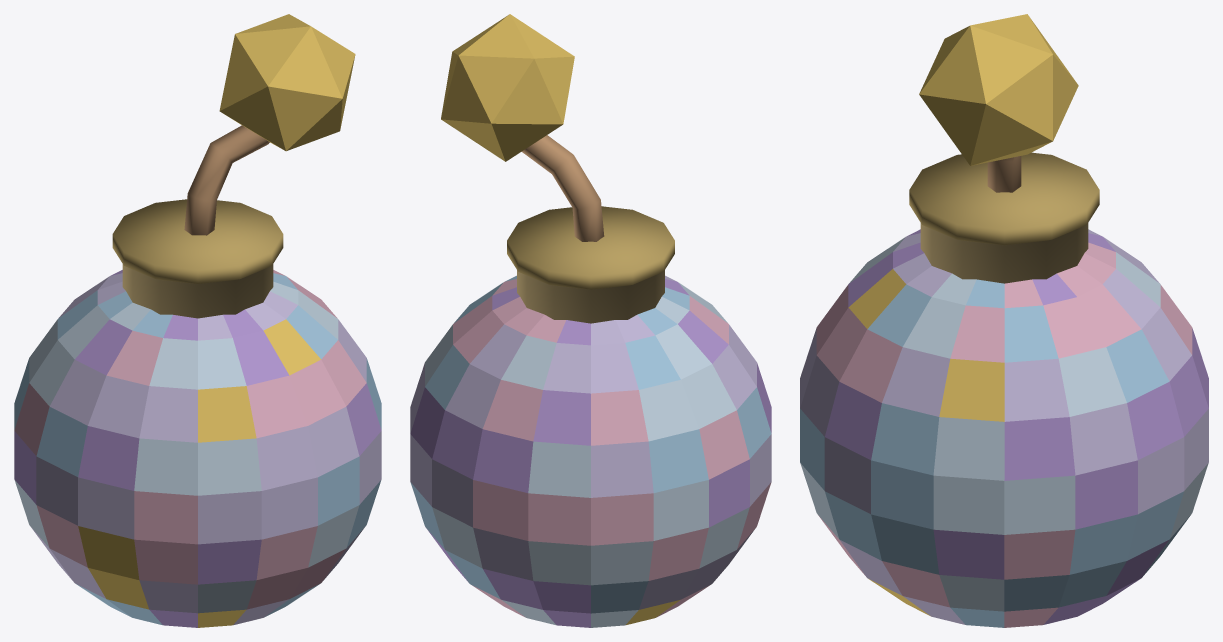
File: pvp_fun_dance_bomb.fbx
3 views of the same model, side by side, from view 1: azimuth 30°, elevation 25°; view 2: azimuth 150°, elevation 25°; view 3: azimuth 270°, elevation 25° (orthographic). The views are drawn at different scales.
Visible parts, largest first — view 1: pvp_fun_dance_bomb; view 2: pvp_fun_dance_bomb; view 3: pvp_fun_dance_bomb.
Part boxes in pixels (x1,y1,x2,y2): pvp_fun_dance_bomb: (14,14,381,627); pvp_fun_dance_bomb: (410,14,771,627); pvp_fun_dance_bomb: (800,14,1208,627).
Size of the model in its own units: 1.48 by 2.52 by 1.46.
